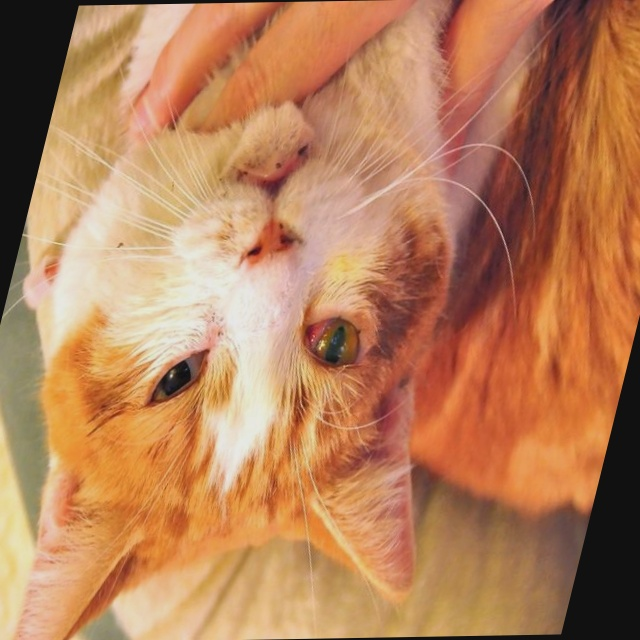eye_infection: (290, 309, 373, 373), (148, 345, 217, 406)
